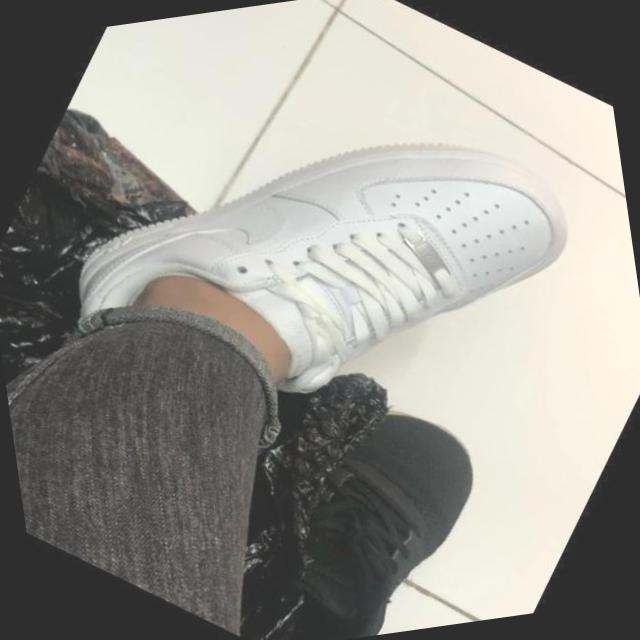nike_original_airforce: (0, 0, 637, 589)
